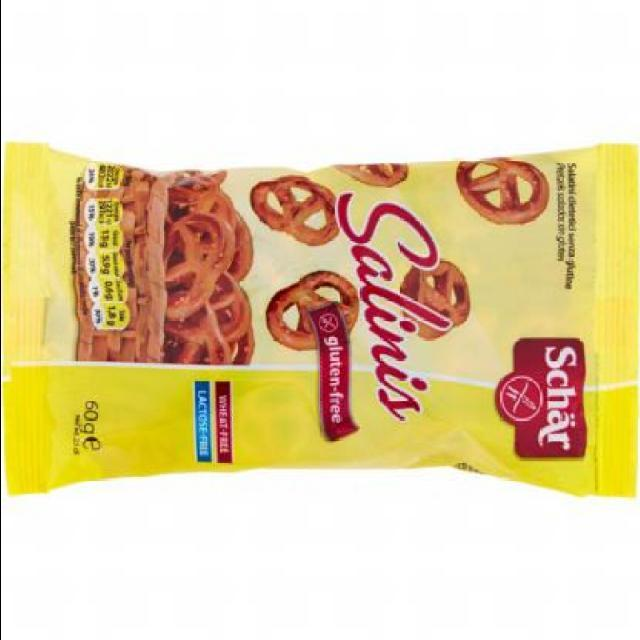Salatini: (1, 135, 639, 503)
